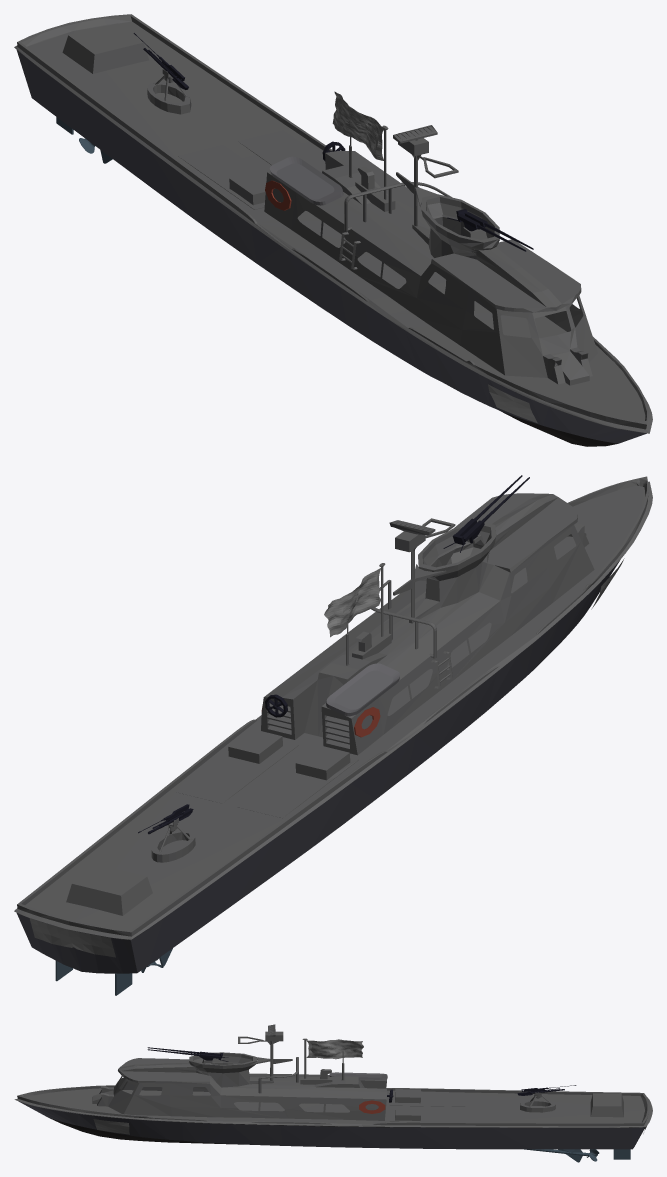
The model's file is mod22.obj.
3 renders of one model, top to bottom at view 1: azimuth 30°, elevation 25°; view 2: azimuth 150°, elevation 25°; view 3: azimuth 270°, elevation 25°, orthographic. The views are drawn at different scales.
Parts seen in each view (by area): view 1: Mesh_Mesh.083_PTRLCASC; view 2: Mesh_Mesh.083_PTRLCASC; view 3: Mesh_Mesh.083_PTRLCASC.
Part boxes in pixels (x1=…): Mesh_Mesh.083_PTRLCASC: x1=14, y1=14, x2=652, y2=446; Mesh_Mesh.083_PTRLCASC: x1=14, y1=475, x2=652, y2=995; Mesh_Mesh.083_PTRLCASC: x1=14, y1=1024, x2=652, y2=1162.
Size of the model in its own units: 140 by 223 by 1031.
